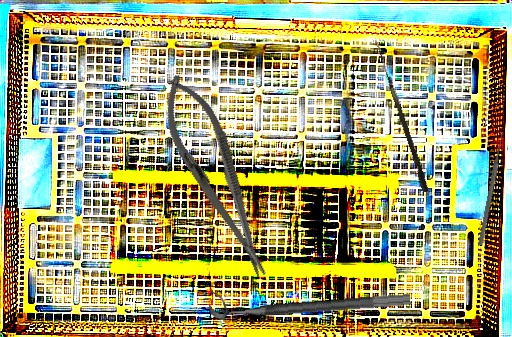Fixation Ring: (208, 277, 411, 320)
Hook Surgical: (369, 42, 432, 193)
Needle Holder: (147, 65, 286, 289)
Pusher: (477, 131, 506, 246)
